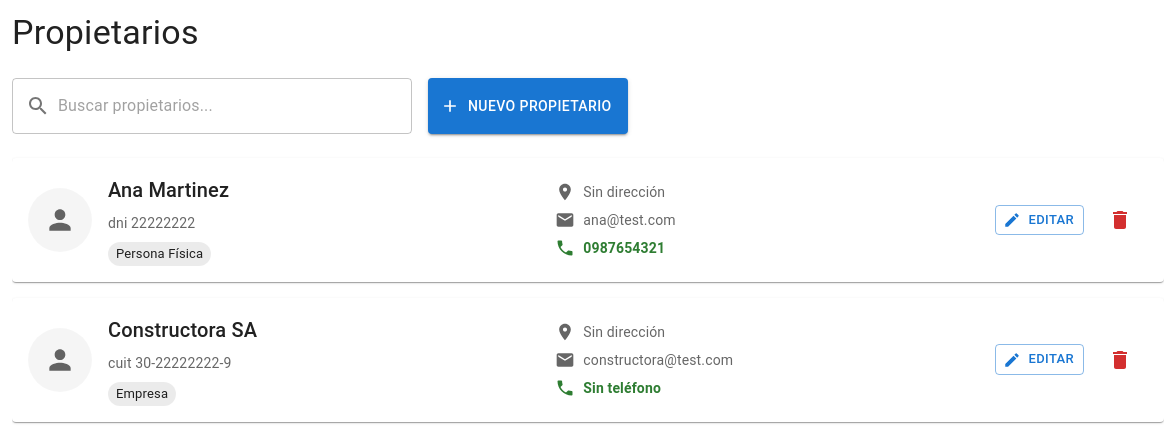
it: PropietariosPage Component › filters results according to search term
Check: the heading "Ana Martinez" is shown, box 108,178 -> 229,202
In the field labelled "Buscar propietarios...": (235, 106) 58,78 -> 412,134, type "Constructora"
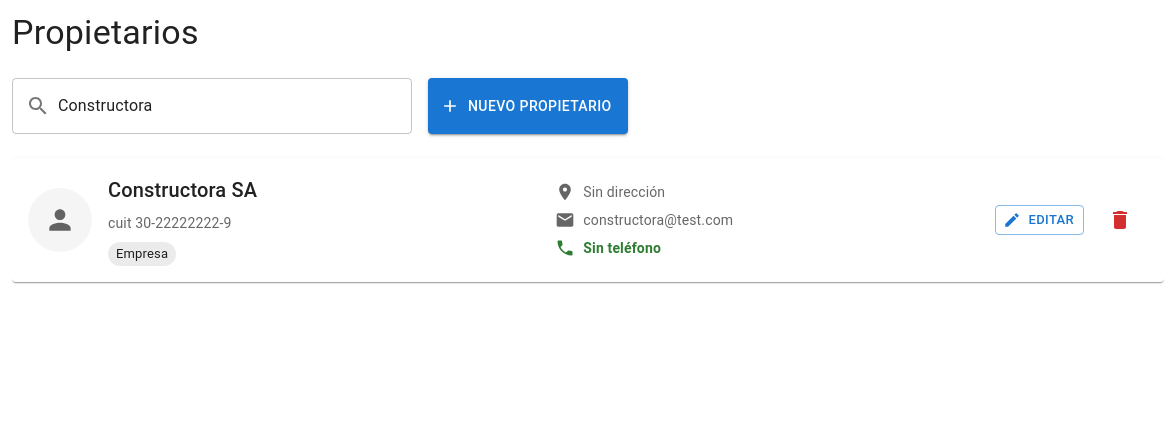
Check: the heading "Constructora SA" is shown, box 108,178 -> 257,202
Check: the heading "Ana Martinez" is gone
